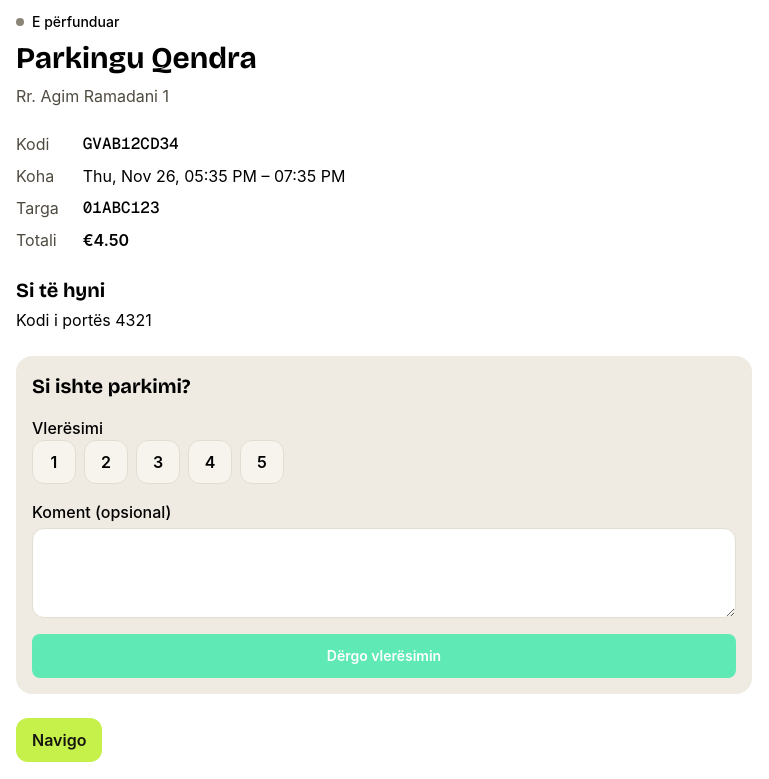
Test: ticket › asks for a review after a completed booking
Click the button named "5 yje" at [262, 462], box [240,440,284,484]
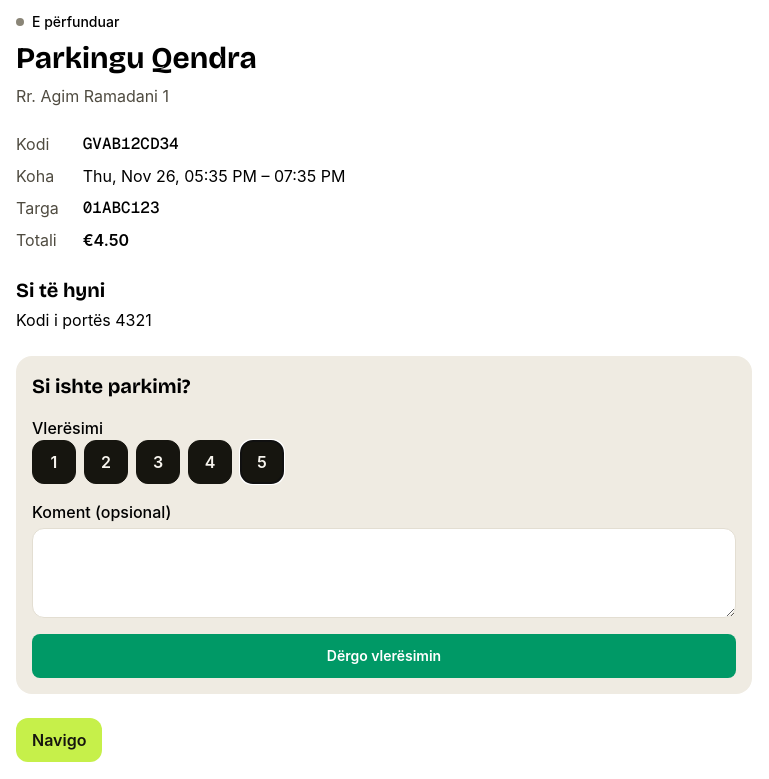
Click the button "Dërgo vlerësimin" at [384, 656], box [32,634,736,678]
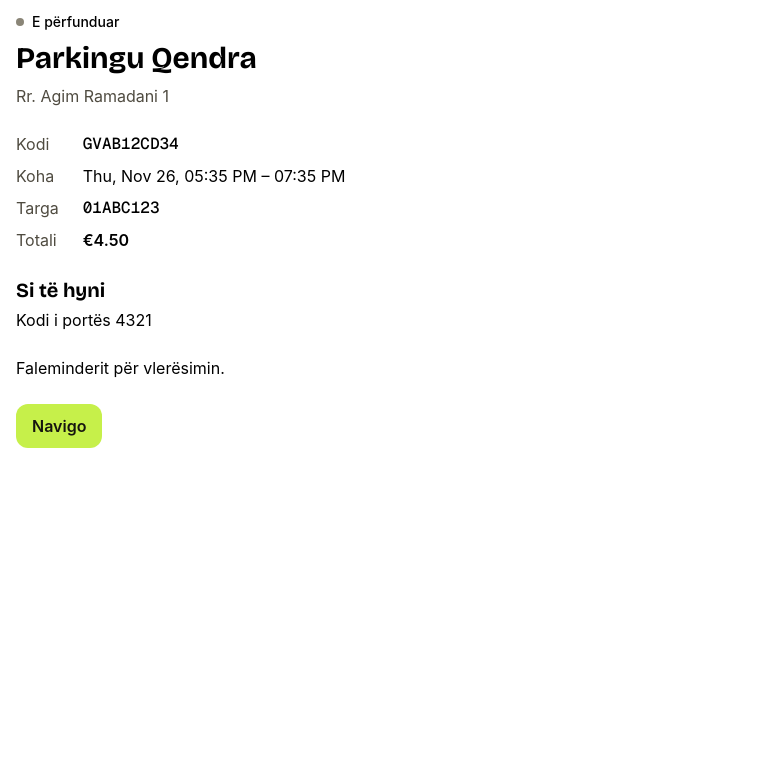
Check: the text "Faleminderit për vlerësimin." is shown, box [16,358,225,378]
